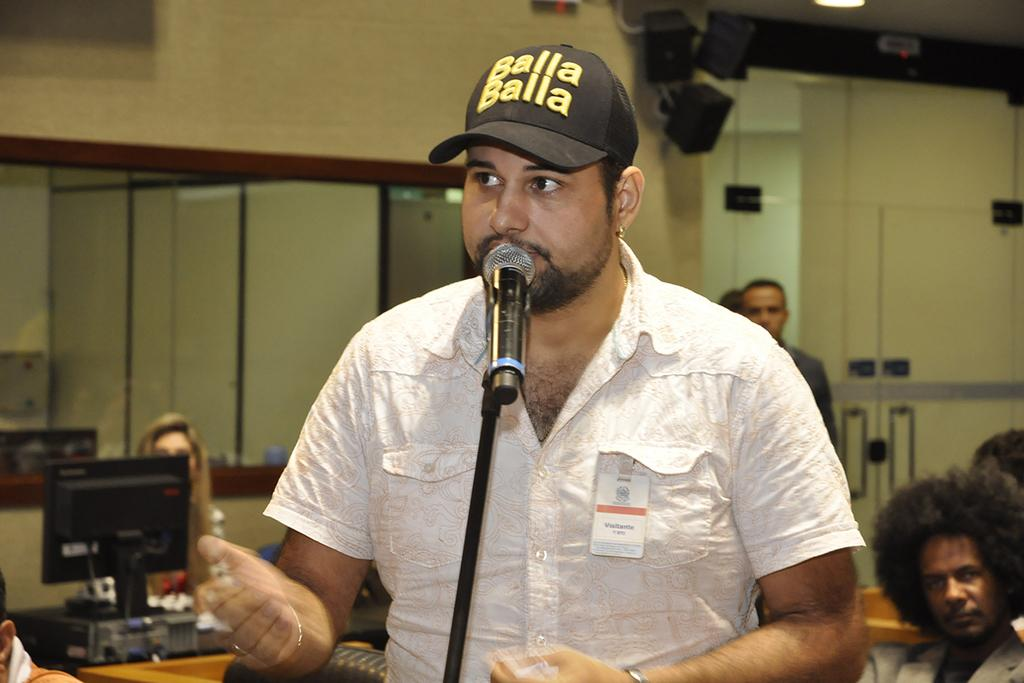Hat: (420, 44, 654, 185)
